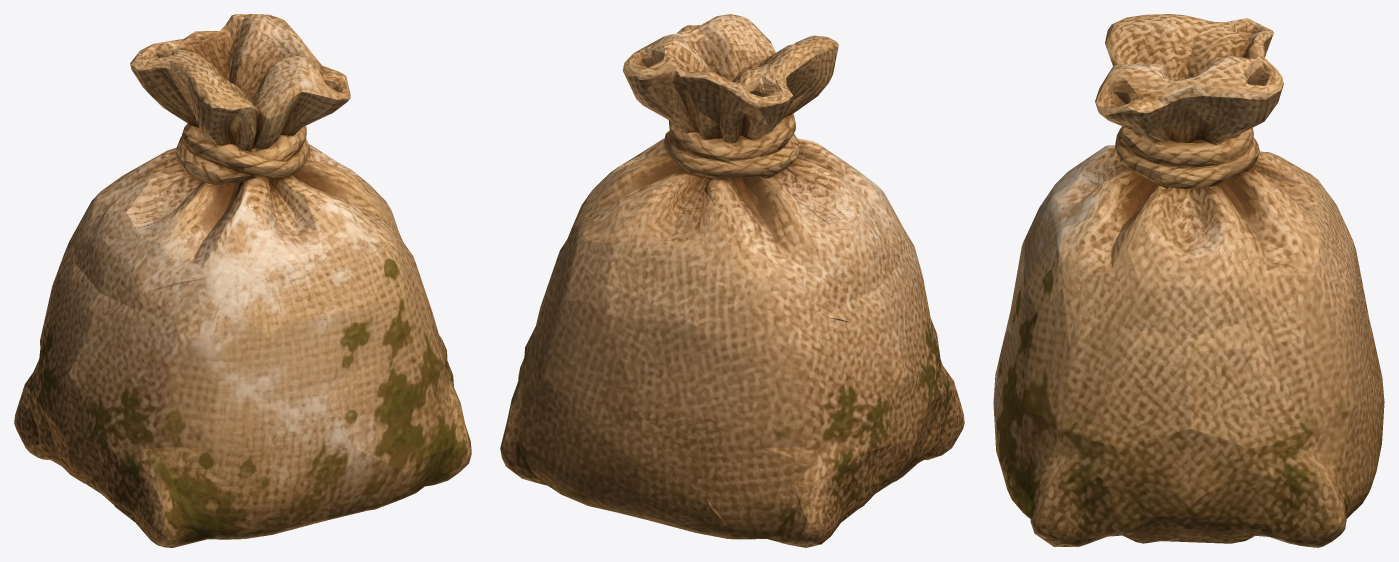
Rendered from flour-sack.hq.glb.
3 renders of one model, left to right at view 1: azimuth 30°, elevation 25°; view 2: azimuth 150°, elevation 25°; view 3: azimuth 270°, elevation 25°, orthographic. The views are drawn at different scales.
Parts seen in each view (by area): view 1: output_unwrapped; view 2: output_unwrapped; view 3: output_unwrapped.
Boxes of the visible parts, bbox=[...] form: output_unwrapped: bbox=[14, 14, 471, 547]; output_unwrapped: bbox=[500, 14, 964, 547]; output_unwrapped: bbox=[993, 14, 1384, 547].
Bounding box in the file's own units: 1.64 × 1.9 × 1.53.
Materials: 1 (1 with a texture image).
